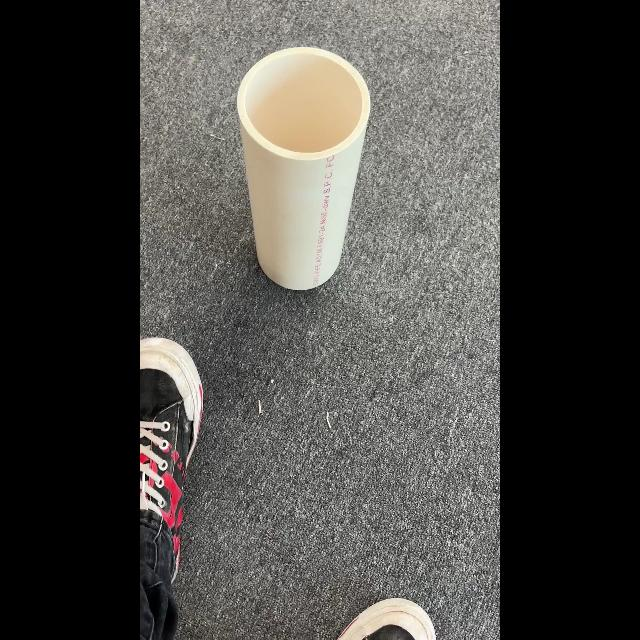CORAL: (236, 46, 370, 290)
